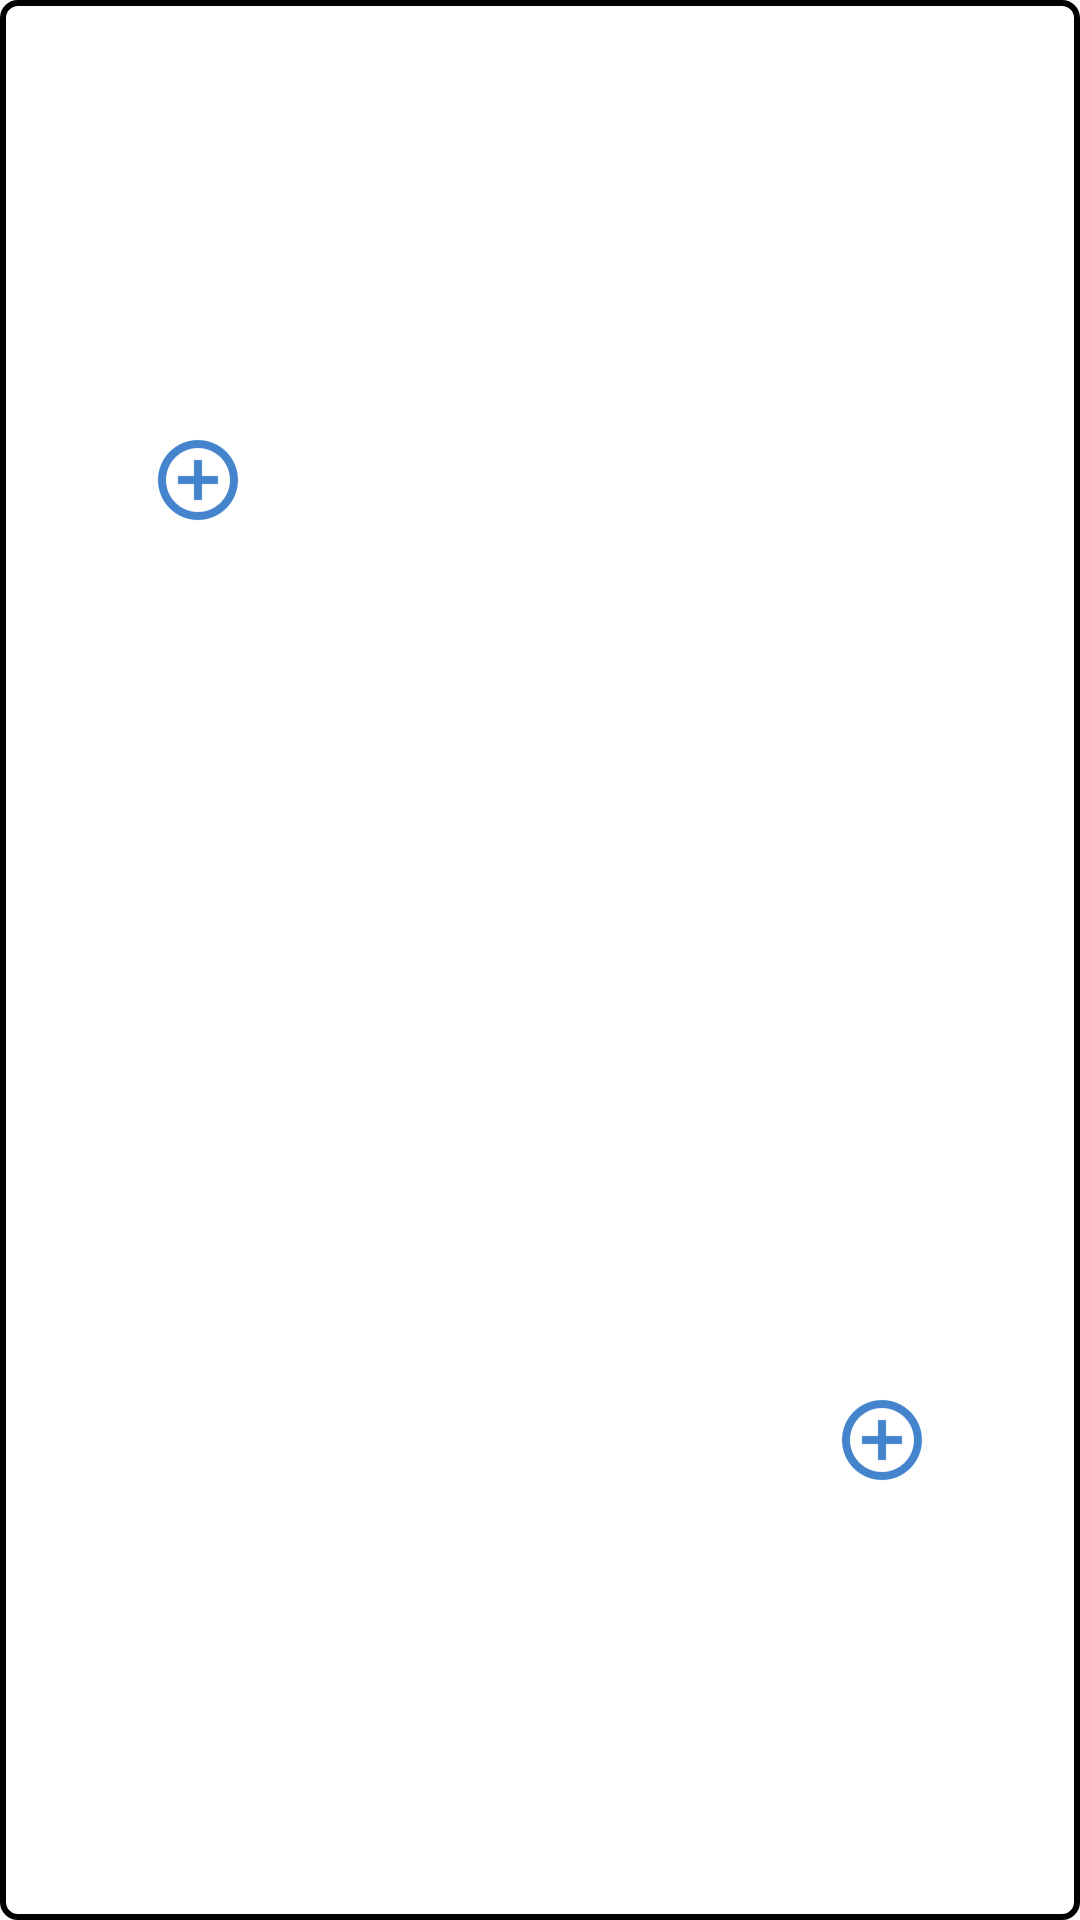

Icons on this 1080w x 1920h Android screen, each with the point to tap as (x,y):
add picture: (198,480), (882,1440)
